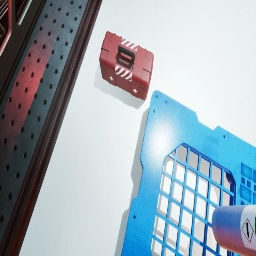0: (212, 204, 256, 256)
FirstAidBox ,: (99, 31, 154, 100)
